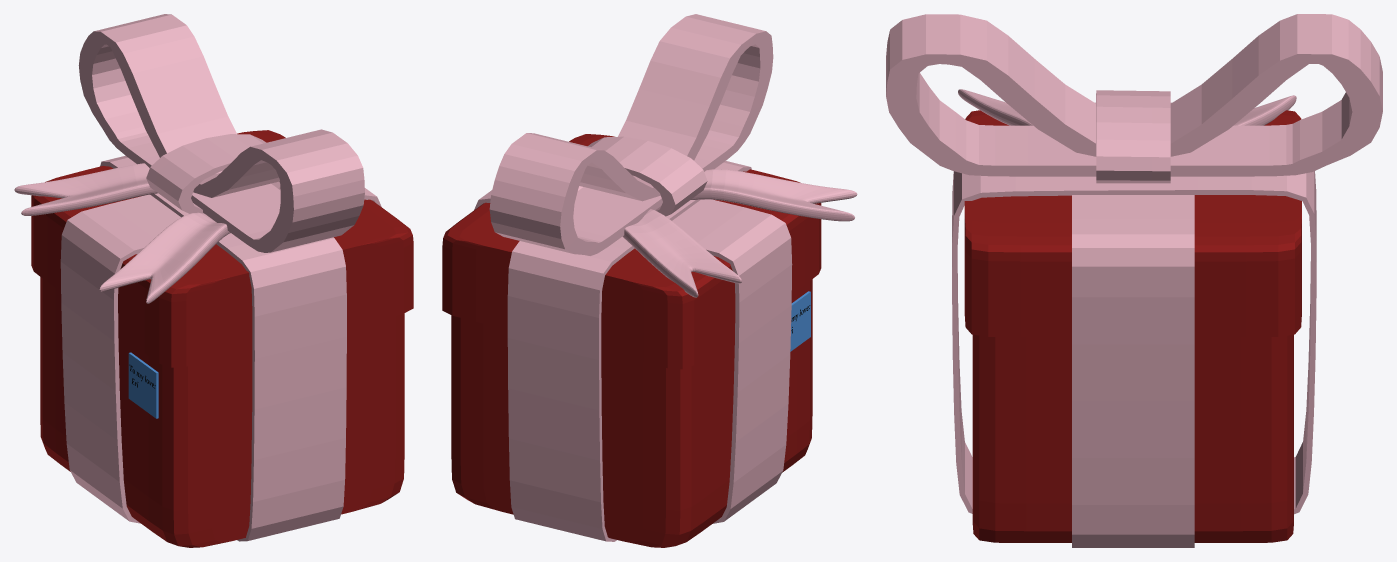
The model's file is GiftBoxFinal.fbx.
3 views of the same model, side by side, from view 1: azimuth 30°, elevation 25°; view 2: azimuth 150°, elevation 25°; view 3: azimuth 270°, elevation 25° (orthographic). The views are drawn at different scales.
Parts seen in each view (by area): view 1: GiftBox; view 2: GiftBox; view 3: GiftBox.
Boxes of the visible parts, x1,y1,x2,y2 form: GiftBox: (14,14,413,547); GiftBox: (442,14,857,547); GiftBox: (886,14,1382,547).
Bounding box in the file's own units: 484 × 601 × 585.
